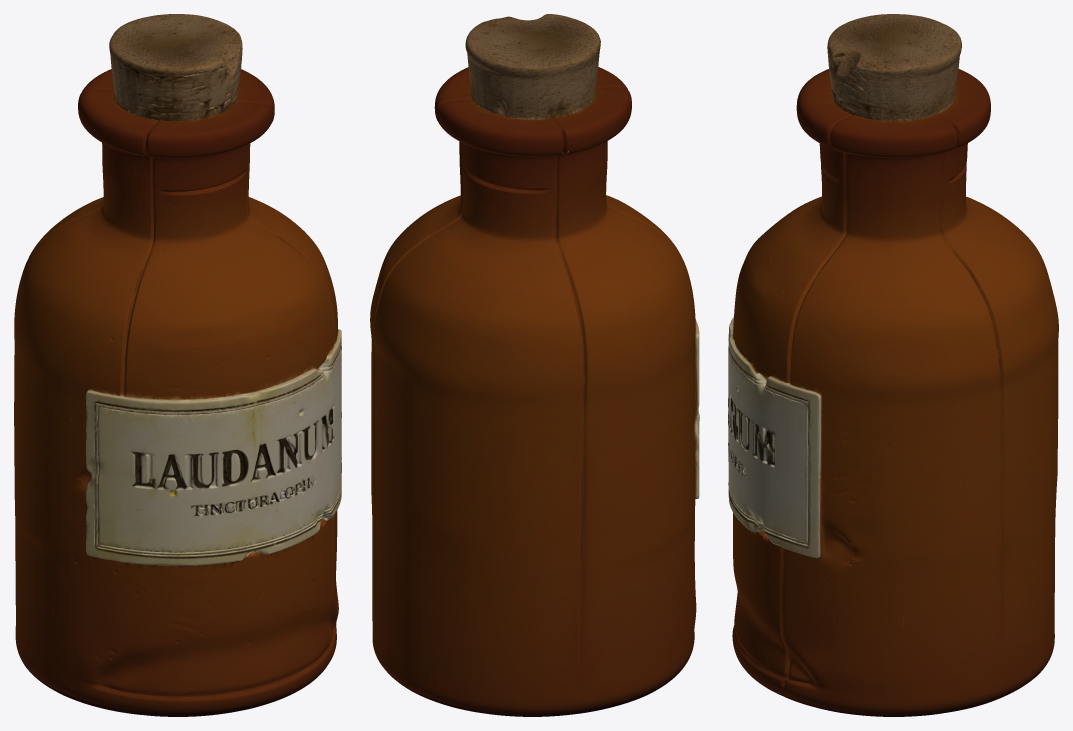
File: laudanum.glb
The picture shows the model from 3 angles, left to right: view 1: azimuth 30°, elevation 25°; view 2: azimuth 150°, elevation 25°; view 3: azimuth 270°, elevation 25°; orthographic projection.
Visible parts, largest first — view 1: mesh; view 2: mesh; view 3: mesh.
Boxes of the visible parts, <box> form: mesh: <box>14,14,341,716</box>; mesh: <box>370,14,699,716</box>; mesh: <box>728,14,1058,716</box>.
Size of the model in its own units: 0.0864 by 0.18 by 0.0877.
Materials: 1 (1 with a texture image).
